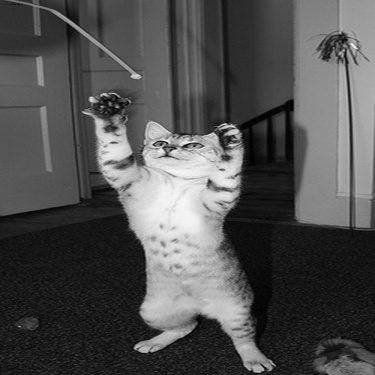cat: (82, 88, 279, 373)
